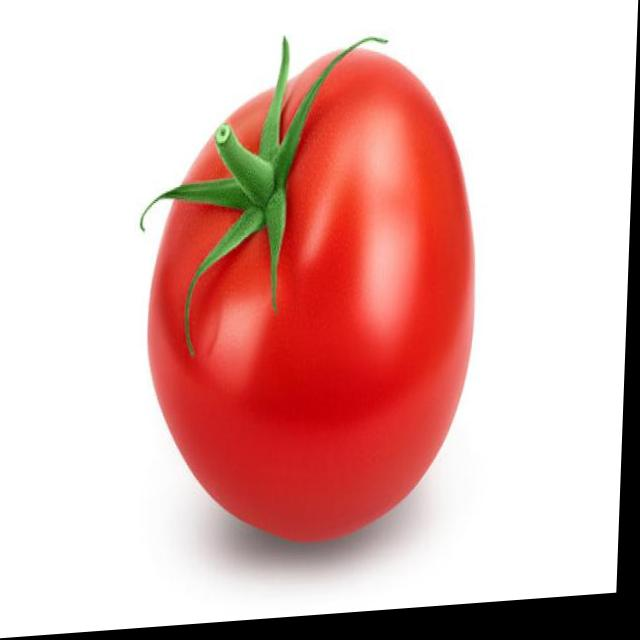kirmizi: (131, 38, 512, 579)
